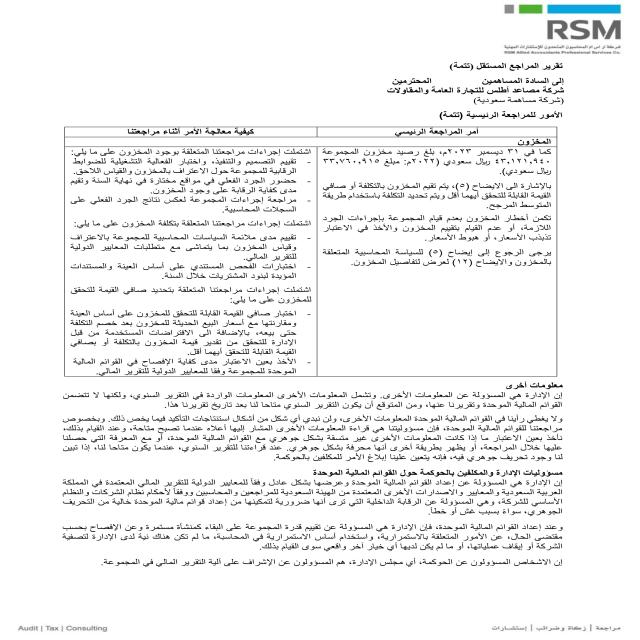auditor_report: (434, 58, 568, 73), (433, 110, 568, 123)
